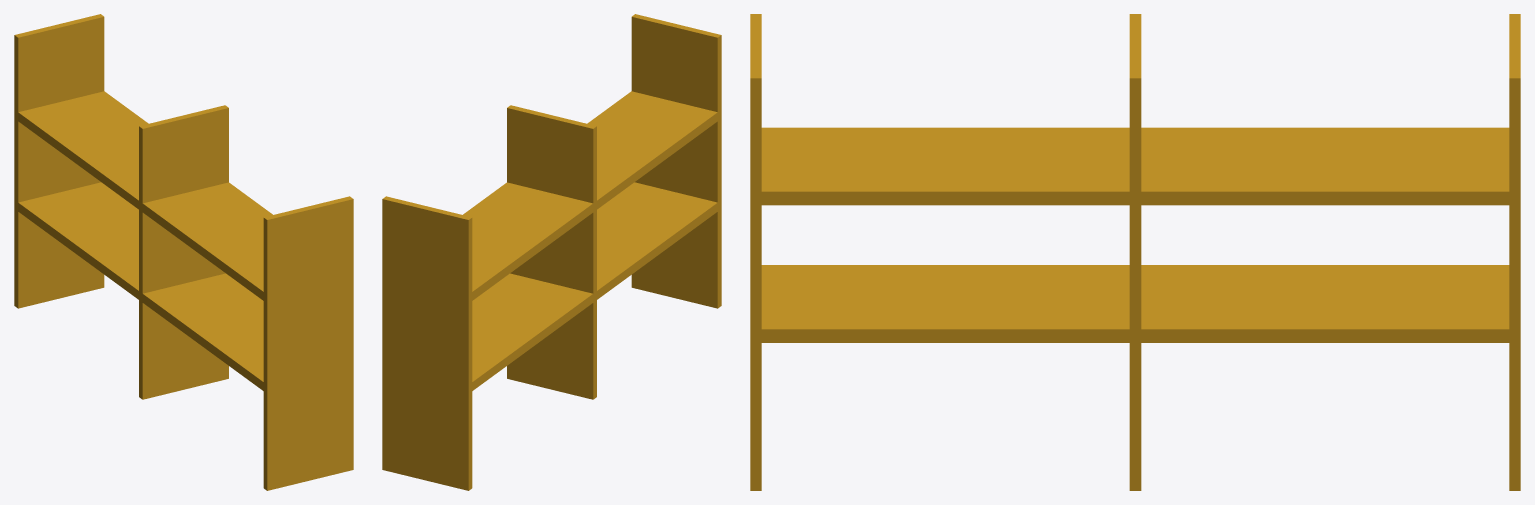
The picture shows the model from 3 angles, left to right: view 1: azimuth 30°, elevation 25°; view 2: azimuth 150°, elevation 25°; view 3: azimuth 270°, elevation 25°; orthographic projection. The views are drawn at different scales.
Visible parts, largest first — view 1: st; view 2: st; view 3: st.
Boxes of the visible parts, x1=… form: st: x1=14, y1=14, x2=353, y2=490; st: x1=382, y1=14, x2=721, y2=490; st: x1=750, y1=14, x2=1520, y2=490.
Bounding box in the file's own units: 400 × 1200 × 2030.
